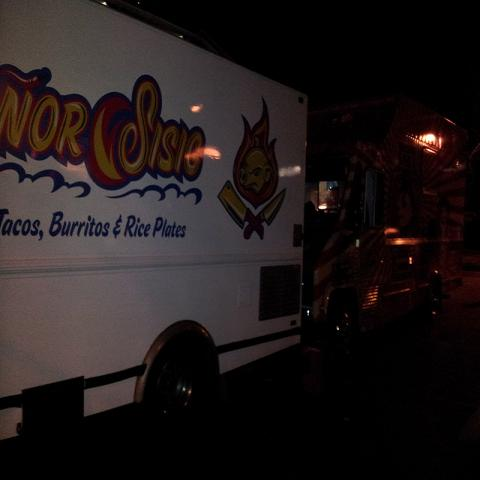truck: (0, 1, 312, 452), (302, 96, 471, 357)
